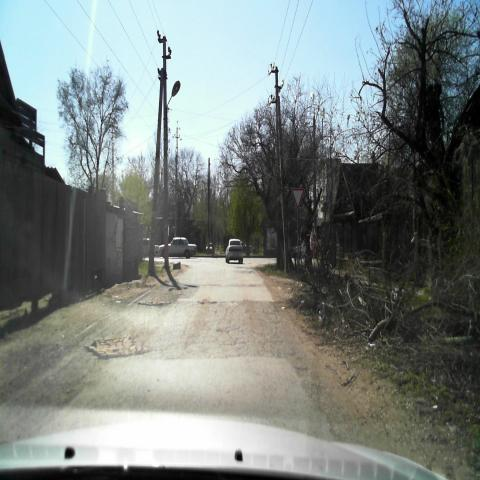2_4: (292, 187, 304, 209)
